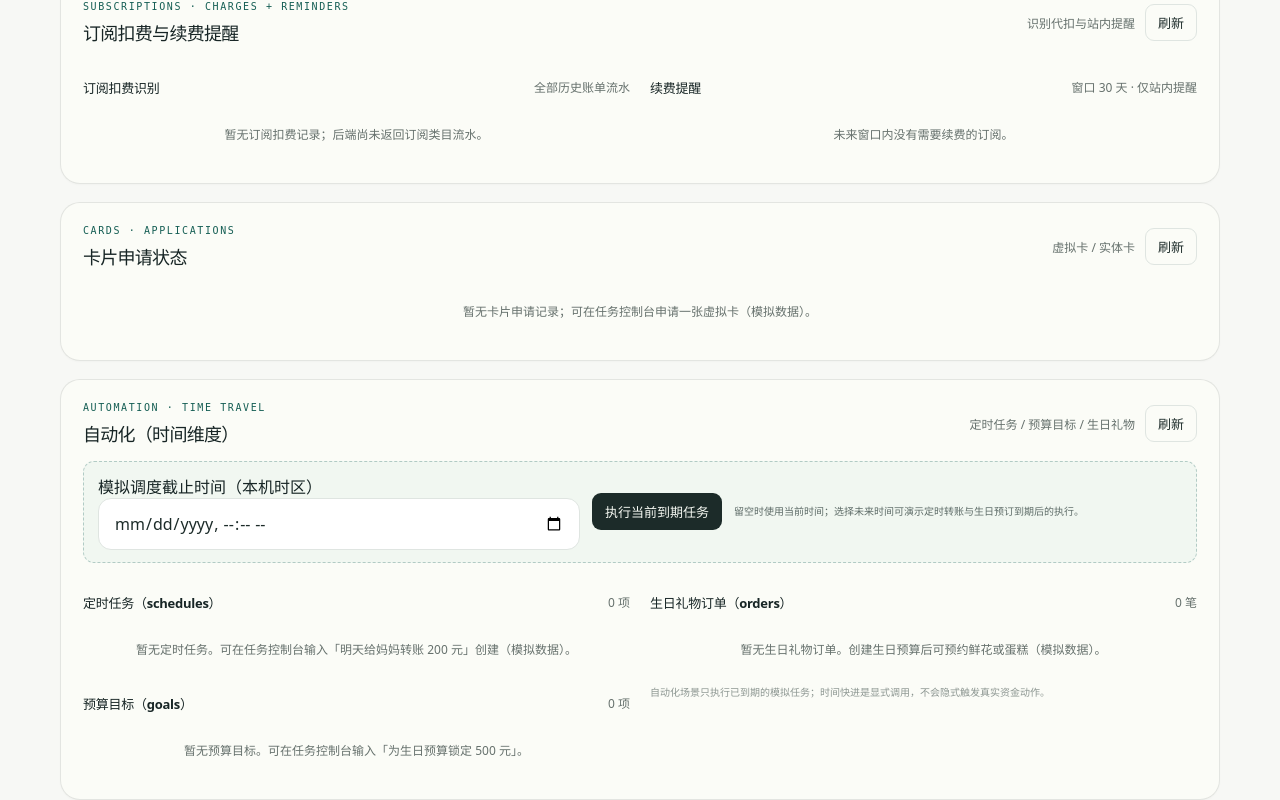
Test: business page interactions › shows a blocked scheduler result without claiming that no tasks were due
(page scrolled)
Click the button "执行当前到期任务" at [657, 512], box [592,493,722,530]
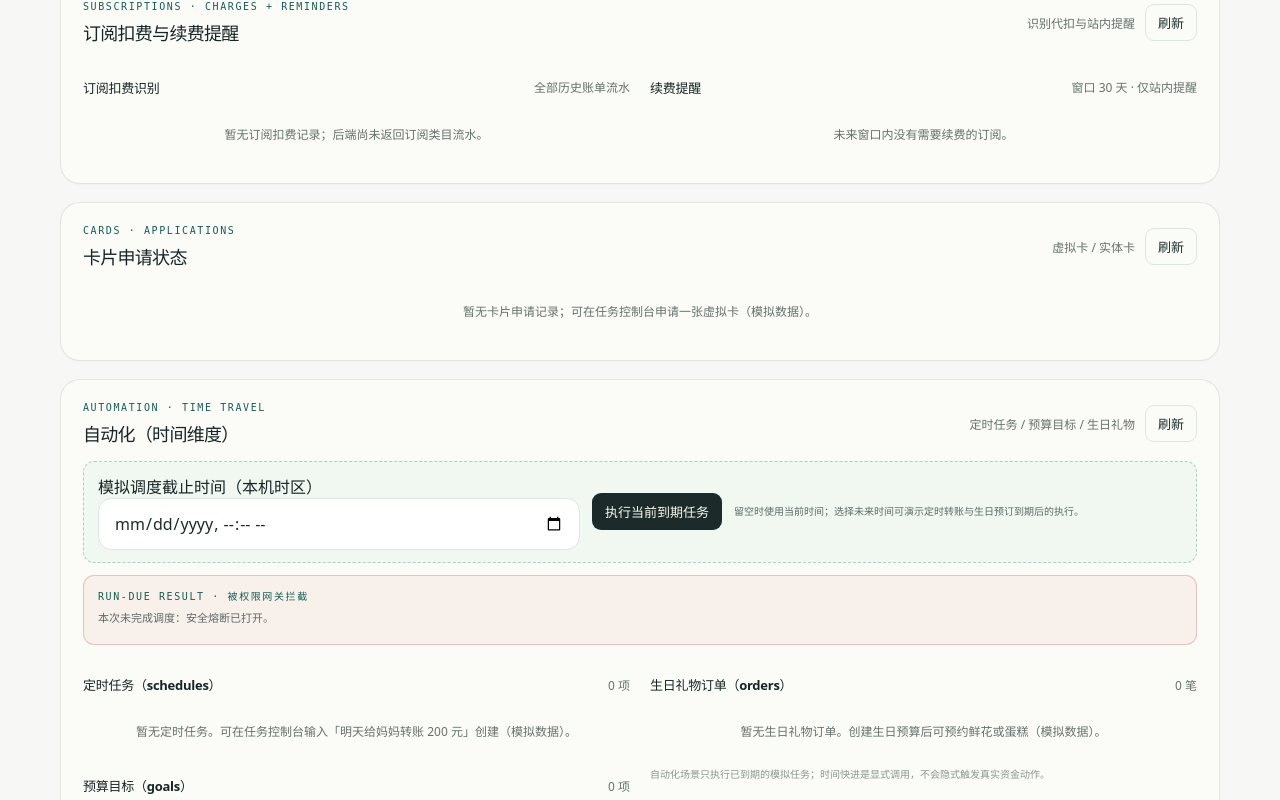
Expected: the message with class "run-due-result" shows "安全熔断已打开", [98,610,274,625]
